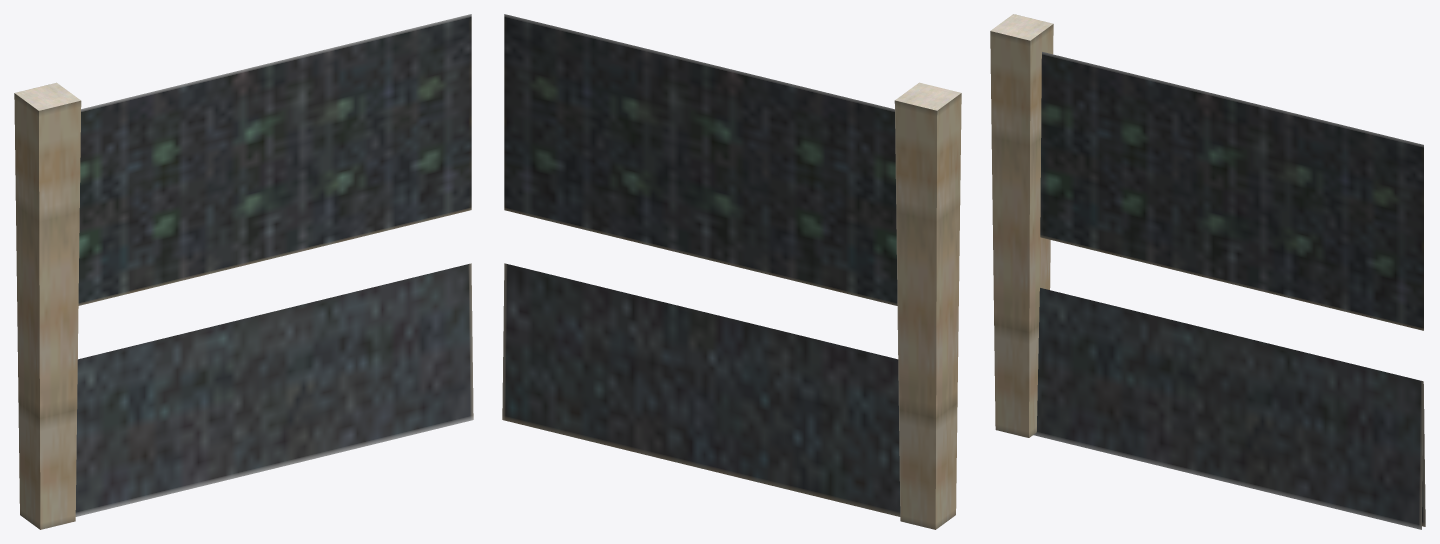
Rendered from thm_nboo_imprv_metal_fence_wall_lg_s02_l3.fbx.
3 views of the same model, side by side, from view 1: azimuth 30°, elevation 25°; view 2: azimuth 150°, elevation 25°; view 3: azimuth 330°, elevation 25° (orthographic). The views are drawn at different scales.
Parts seen in each view (by area): view 1: mesh_node; view 2: mesh_node; view 3: mesh_node.
Boxes of the visible parts, left/top/right/bottom form: mesh_node: left=14, top=14, right=473, bottom=529; mesh_node: left=502, top=14, right=961, bottom=529; mesh_node: left=990, top=14, right=1425, bottom=529.
Size of the model in its own units: 6.3 by 5.75 by 0.6.
